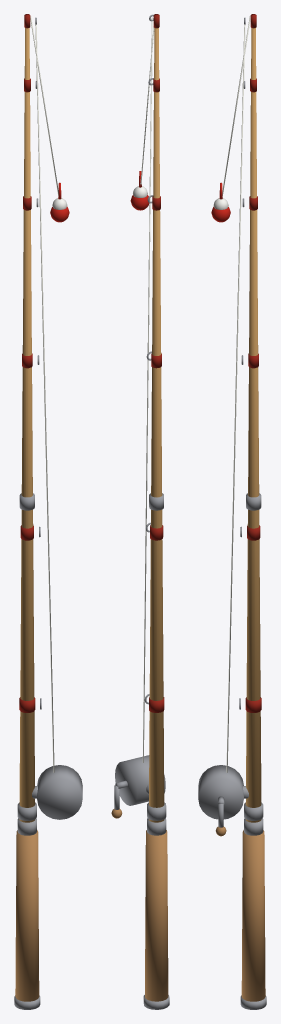
Rendered from angelrute.glb.
3 renders of one model, left to right at view 1: azimuth 90°, elevation 25°; view 2: azimuth 210°, elevation 25°; view 3: azimuth 270°, elevation 25°, orthographic.
Parts seen in each view (by area): view 1: angelrute; view 2: angelrute; view 3: angelrute.
Boxes of the visible parts, x1,y1,x2,y2 form: angelrute: (14,14,82,1009); angelrute: (111,14,169,1009); angelrute: (198,14,266,1009).
Size of the model in its own units: 0.09 by 2.01 by 0.126.
